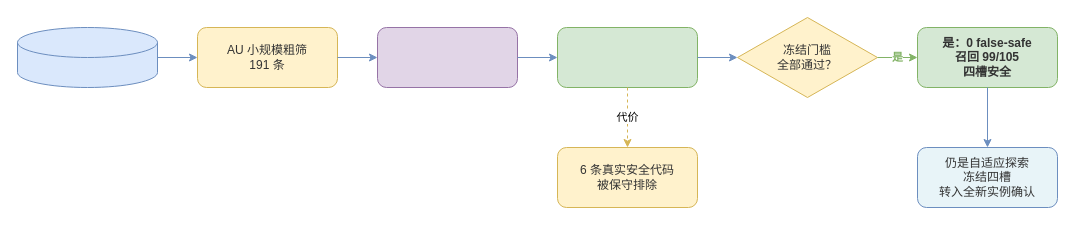
This 1075x225 diagram has some shape labels left out. Here are the shapes that lost their labels. From the top down, the centre of each, then its label:
At (87,57): "历史池 206".
At (447,57): "AV n=1002 排序 156 条".
At (627,57): "AW 直接 n=3038 99 可行 57 超时".
